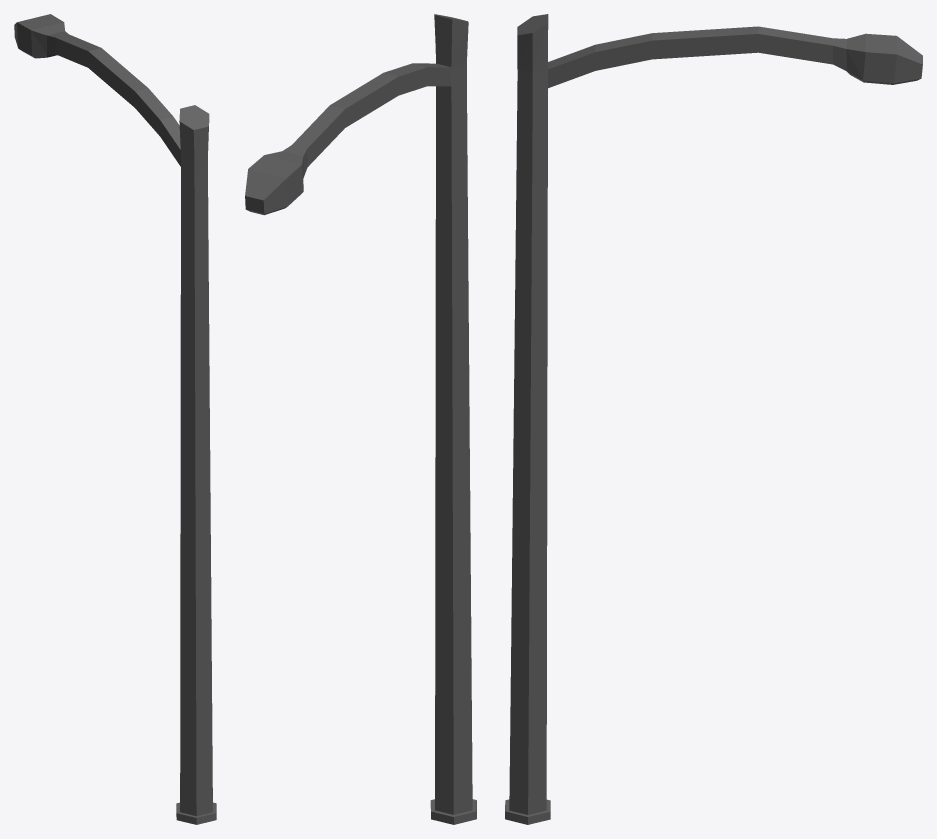
File: cpsMap_Streetlight.obj
3 renders of one model, left to right at view 1: azimuth 30°, elevation 25°; view 2: azimuth 150°, elevation 25°; view 3: azimuth 270°, elevation 25°, orthographic. The views are drawn at different scales.
Visible parts, largest first — view 1: StreetLight_2_Mesh.001; view 2: StreetLight_2_Mesh.001; view 3: StreetLight_2_Mesh.001.
Part boxes in pixels (x1=…): StreetLight_2_Mesh.001: x1=14, y1=14, x2=216, y2=824; StreetLight_2_Mesh.001: x1=245, y1=14, x2=476, y2=824; StreetLight_2_Mesh.001: x1=505, y1=14, x2=922, y2=824.
Size of the model in its own units: 0.9084 by 15.15 by 7.21.
